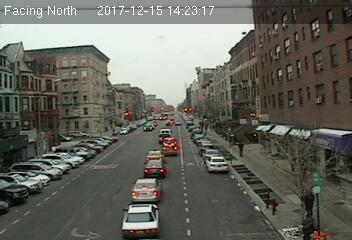car: (122, 202, 161, 236), (131, 177, 161, 204), (205, 155, 231, 174), (144, 159, 166, 179), (160, 141, 179, 155), (145, 149, 164, 161)
pedestrian: (236, 141, 246, 158)
